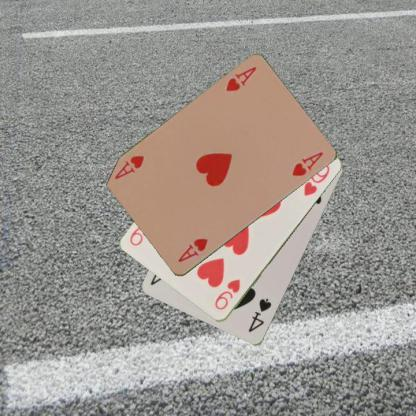4s: (246, 296, 273, 334)
9h: (212, 276, 242, 312)
Ah: (223, 64, 258, 94), (175, 236, 209, 264)
